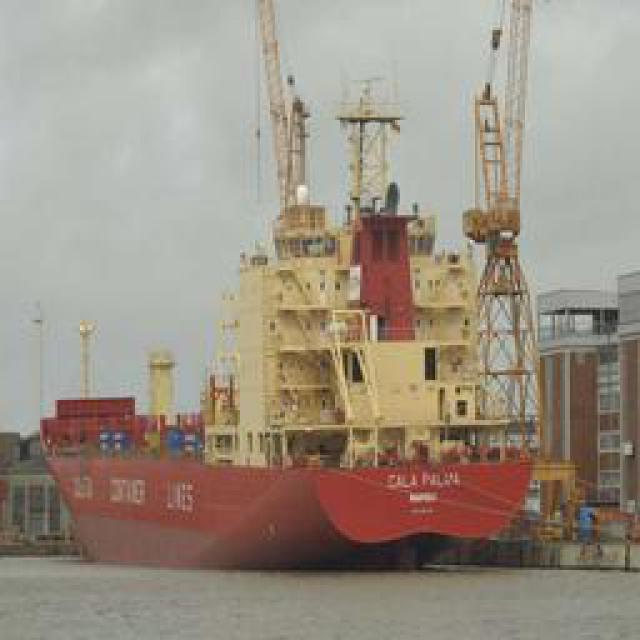Ship: (24, 179, 545, 584)
